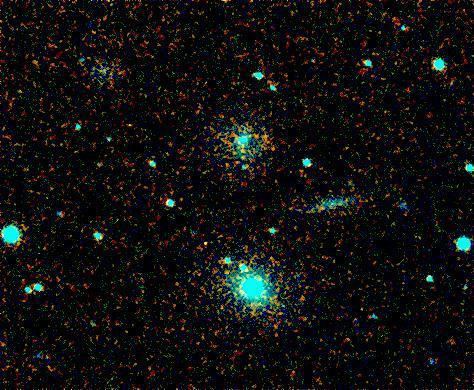star: (188, 227, 218, 257)
